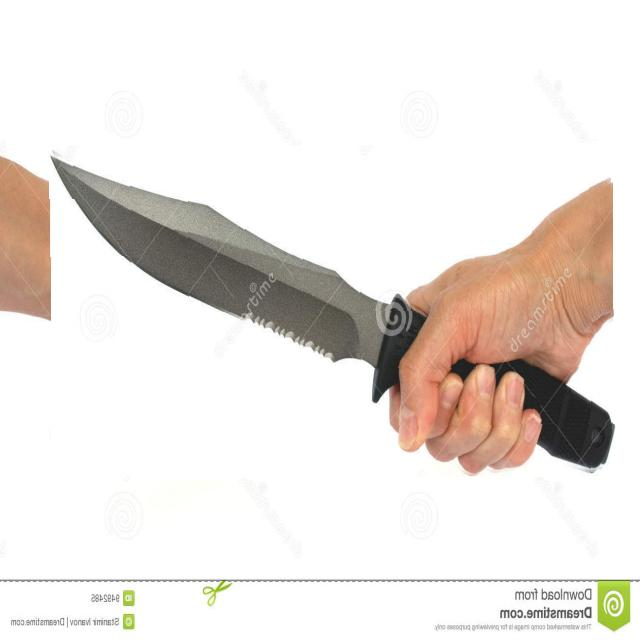knife: (50, 144, 614, 479)
